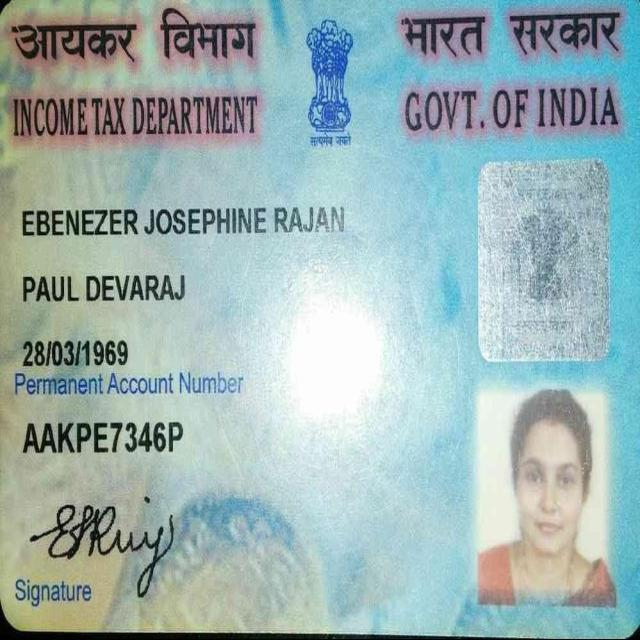pan_card: (0, 0, 640, 634)
